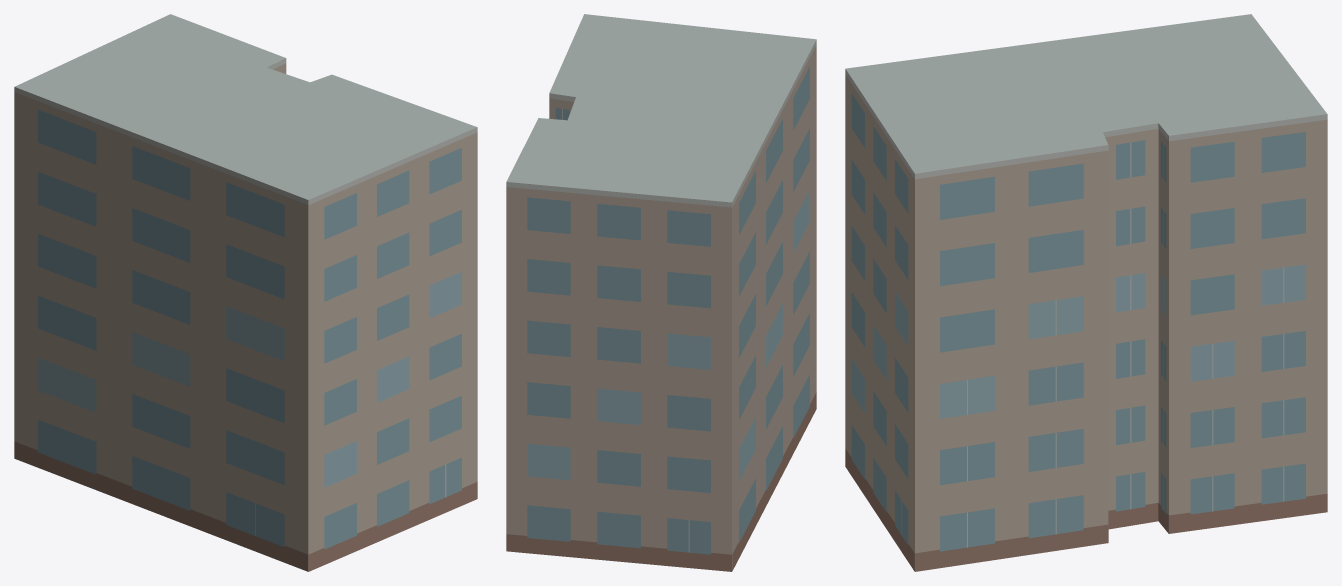
Rendered from survey-upis-32877070.glb.
3 renders of one model, left to right at view 1: azimuth 30°, elevation 25°; view 2: azimuth 150°, elevation 25°; view 3: azimuth 270°, elevation 25°, orthographic. The views are drawn at different scales.
Parts seen in each view (by area): view 1: survey-upis-32877070.tmp; view 2: survey-upis-32877070.tmp; view 3: survey-upis-32877070.tmp.
Part boxes in pixels (box(x1,y1,x2,y2)): survey-upis-32877070.tmp: box(14, 14, 477, 571); survey-upis-32877070.tmp: box(506, 14, 816, 571); survey-upis-32877070.tmp: box(845, 14, 1327, 571).
Size of the model in its own units: 15.34 by 17.8 by 19.55.
